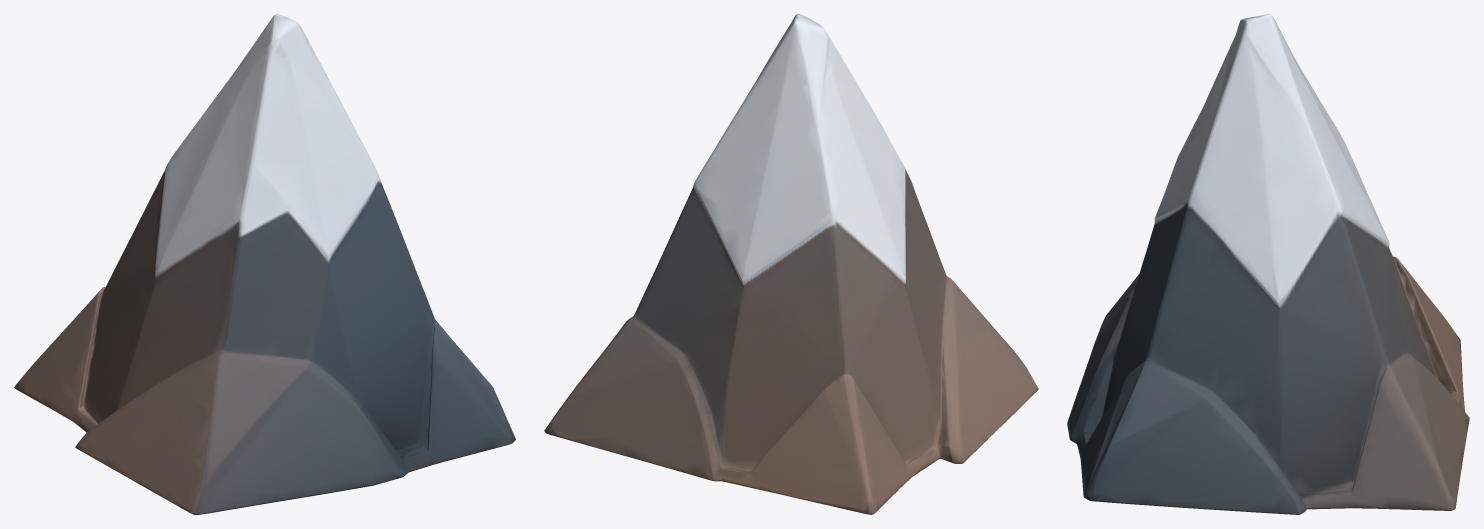
The model's file is bigRock3.fbx.
The picture shows the model from 3 angles, left to right: view 1: azimuth 30°, elevation 25°; view 2: azimuth 150°, elevation 25°; view 3: azimuth 270°, elevation 25°; orthographic projection. The views are drawn at different scales.
Visible parts, largest first — view 1: bigRock3; view 2: bigRock3; view 3: bigRock3.
Part boxes in pixels (x1,y1,x2,y2): bigRock3: (14, 14, 515, 514); bigRock3: (544, 14, 1038, 514); bigRock3: (1067, 14, 1469, 514).
Bounding box in the file's own units: 31.25 × 32.65 × 28.92.
Materials: 1 (1 with a texture image).
